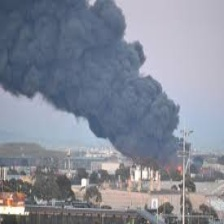smoke: (1, 3, 185, 173)
